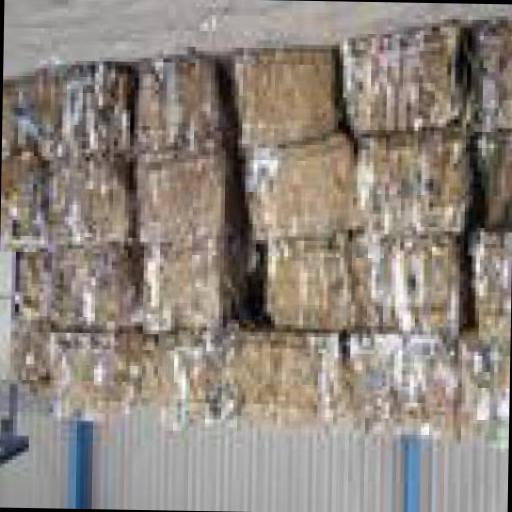cardboard: (348, 134, 470, 248), (338, 29, 460, 143), (341, 338, 458, 448), (230, 48, 347, 158), (236, 140, 350, 250), (213, 335, 343, 430), (339, 242, 456, 340), (132, 150, 242, 252), (129, 58, 235, 159), (135, 245, 252, 336), (37, 68, 135, 166), (45, 336, 139, 426), (36, 160, 126, 250), (47, 248, 137, 334), (262, 244, 340, 338), (140, 338, 214, 423), (453, 340, 506, 452), (462, 28, 512, 140), (458, 236, 508, 344), (468, 140, 510, 232), (0, 160, 38, 244), (1, 328, 47, 393), (11, 248, 48, 324), (2, 80, 35, 161)
